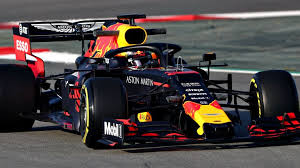f1_car: (1, 11, 300, 155)
